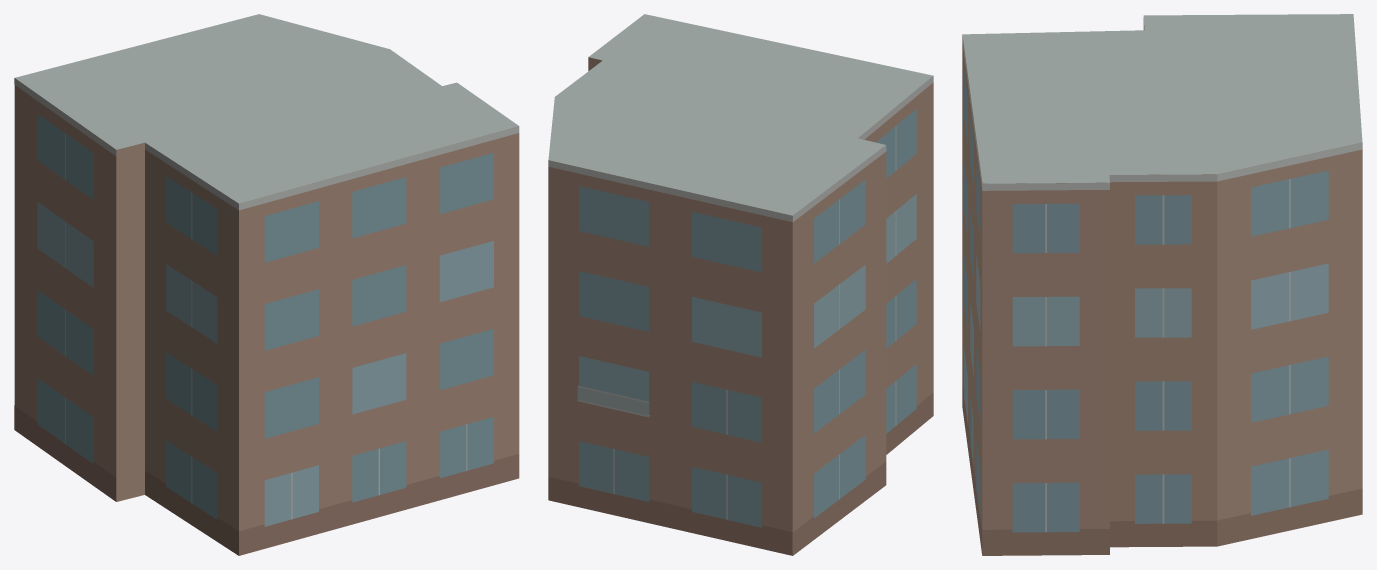
File: survey-upis-32636856.glb
The picture shows the model from 3 angles, left to right: view 1: azimuth 30°, elevation 25°; view 2: azimuth 150°, elevation 25°; view 3: azimuth 270°, elevation 25°; orthographic projection. The views are drawn at different scales.
Parts seen in each view (by area): view 1: survey-upis-32636856.tmp; view 2: survey-upis-32636856.tmp; view 3: survey-upis-32636856.tmp.
Part boxes in pixels (x1,y1,x2,y2): survey-upis-32636856.tmp: (14,14,519,555); survey-upis-32636856.tmp: (548,14,933,555); survey-upis-32636856.tmp: (962,14,1362,555).
Size of the model in its own units: 12.43 by 12.7 by 12.39.
